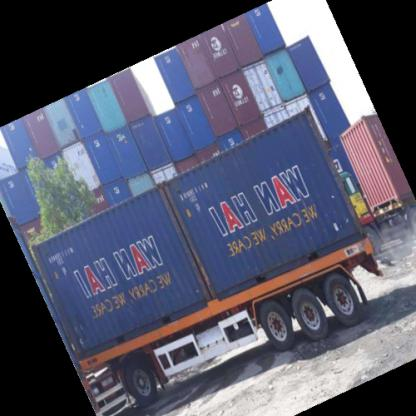Damage: (302, 104, 357, 225), (157, 175, 210, 295)
